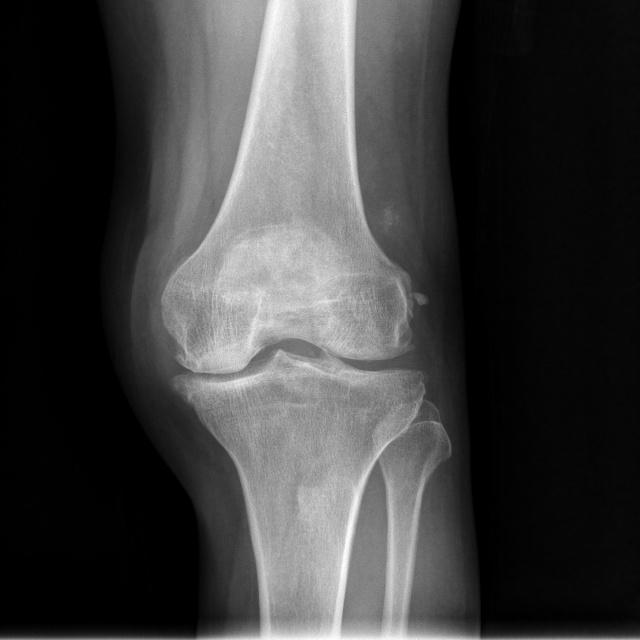Knee: (155, 260, 427, 438)
